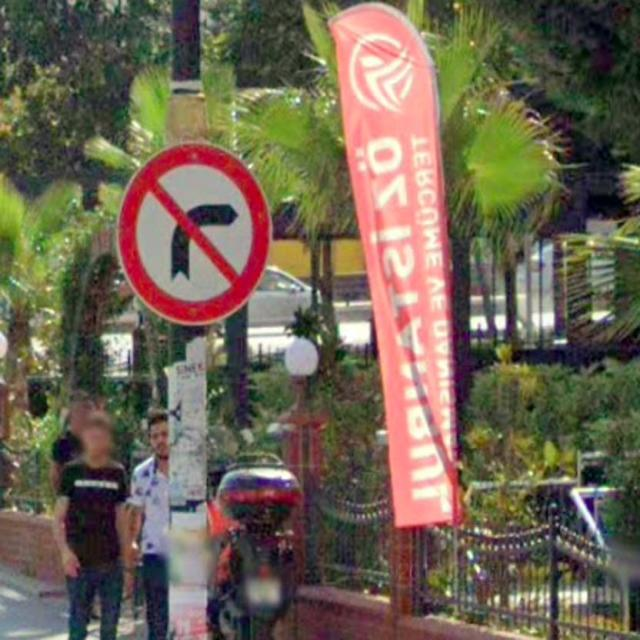sagadonulmez: (116, 142, 272, 326)
